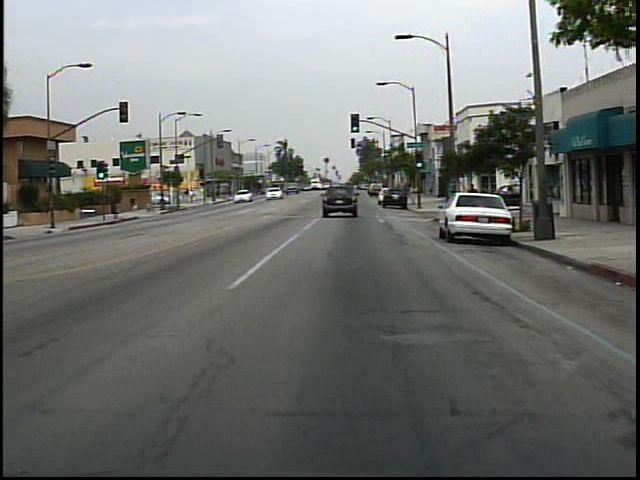person: (463, 178, 483, 217), (126, 192, 145, 220), (189, 188, 197, 206)
